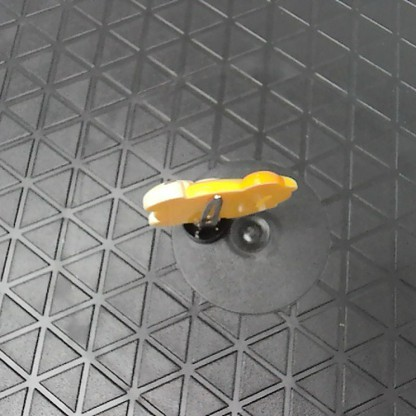dogclip: (137, 168, 299, 233)
